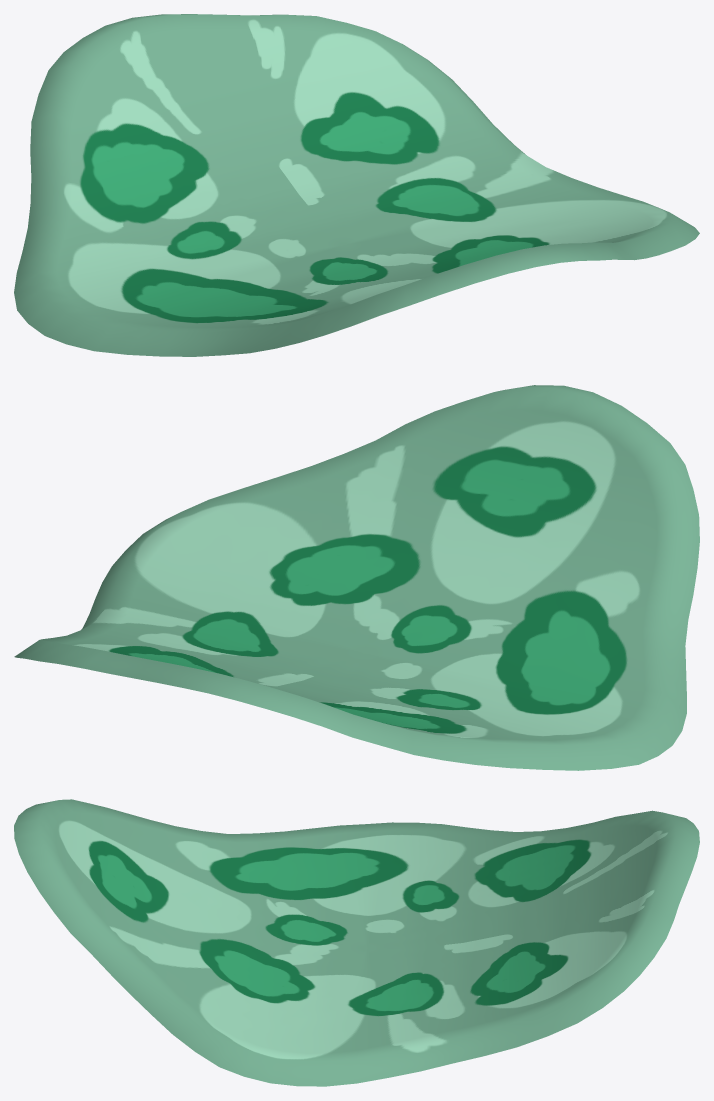
File: Medium Mossy Puddle.fbx
3 renders of one model, top to bottom at view 1: azimuth 30°, elevation 25°; view 2: azimuth 150°, elevation 25°; view 3: azimuth 270°, elevation 25°, orthographic. The views are drawn at different scales.
Parts seen in each view (by area): view 1: Medium; view 2: Medium; view 3: Medium.
Boxes of the visible parts, x1,y1,x2,y2 form: Medium: [14, 14, 699, 356]; Medium: [14, 385, 699, 770]; Medium: [14, 799, 699, 1086].
Size of the model in its own units: 29.98 by 7.08 by 33.21.
1 material, 1 textured.
